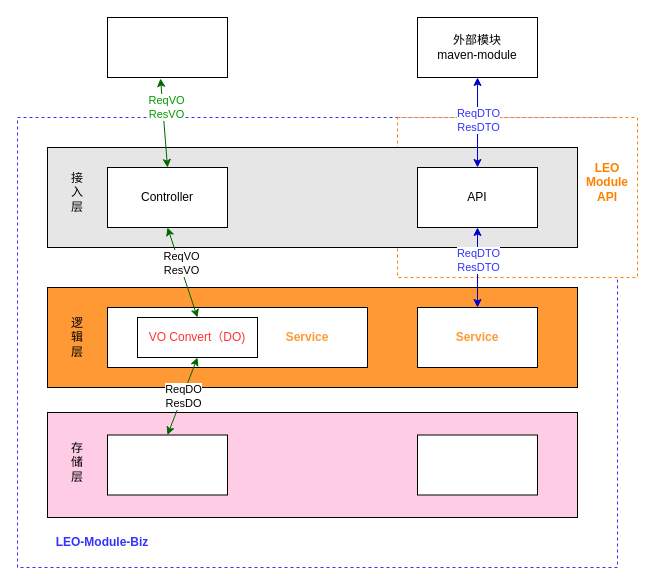
The diagram is 655 pixels wide and 585 high, and some of its shapes have lost their labels. The box of each missing label's shape, as (x1, y1, x2, y2) in pixels:
Mapper （数据库）: (106, 434, 228, 495)
RedisDAO (换层): (416, 434, 538, 495)
前端 （Web/app/小程序）: (106, 16, 228, 78)
